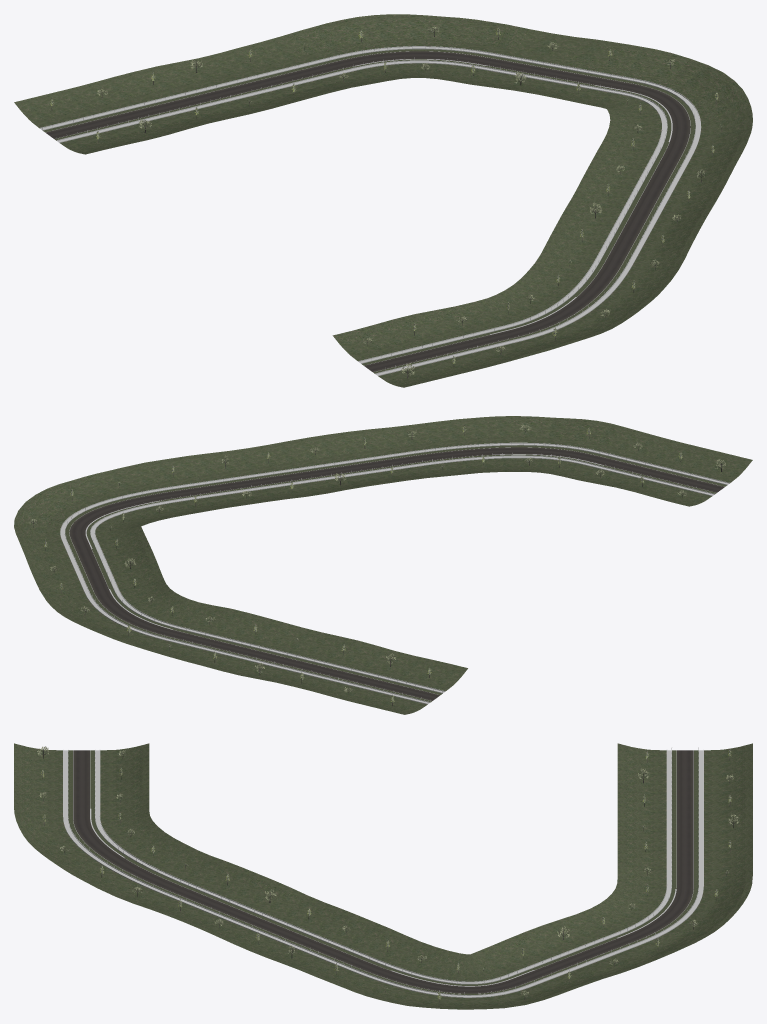
3 views of the same model, one above another, from view 1: azimuth 30°, elevation 25°; view 2: azimuth 150°, elevation 25°; view 3: azimuth 270°, elevation 25° (orthographic). The views are drawn at different scales.
Parts seen in each view (by area): view 1: Grass, Road, Track, Trees; view 2: Grass, Road, Track, Trees; view 3: Grass, Road, Track, Trees.
Boxes of the visible parts, x1,y1,x2,y2 form: Grass: [14, 14, 752, 387]; Road: [45, 51, 690, 371]; Track: [40, 46, 701, 375]; Trees: [50, 26, 723, 378]; Grass: [14, 416, 752, 714]; Road: [69, 447, 724, 700]; Track: [60, 442, 729, 704]; Trees: [29, 424, 726, 706]; Grass: [14, 743, 752, 1009]; Road: [73, 750, 693, 993]; Track: [63, 747, 703, 997]; Trees: [37, 746, 739, 1002].
Size of the model in its own units: 64218 by 2545 by 76500.
